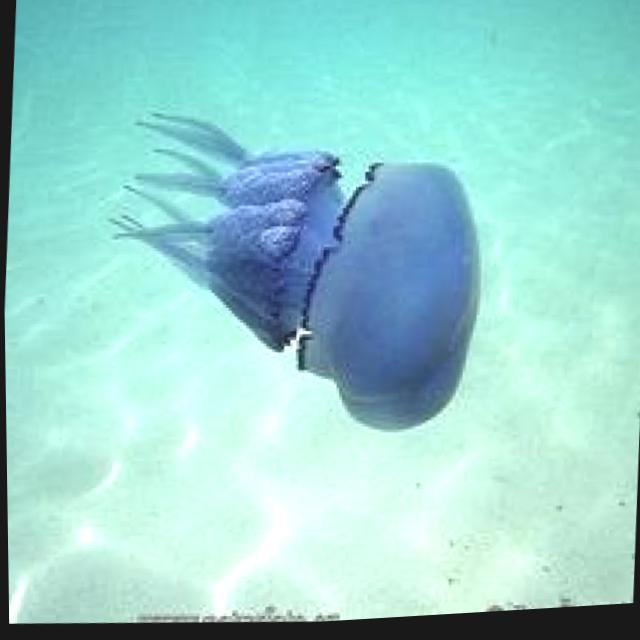Box-jellyfish: (93, 92, 491, 455)
